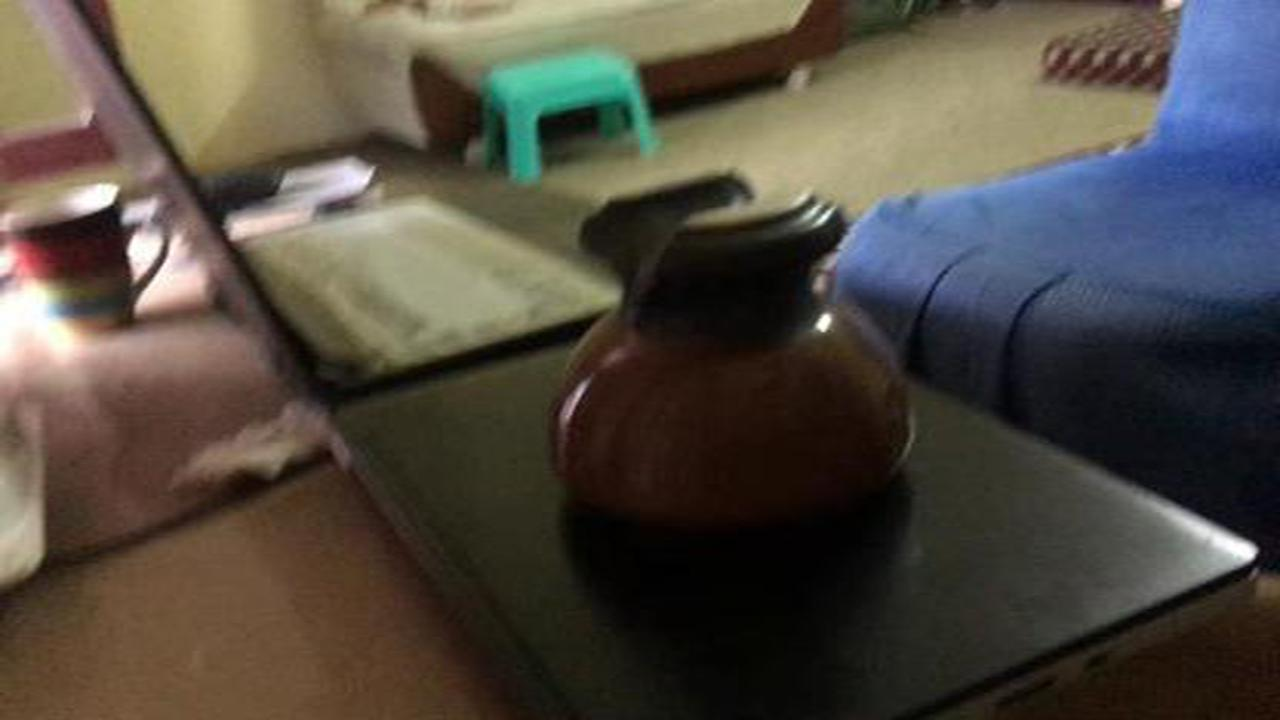insulator_pin: (545, 158, 942, 546)
